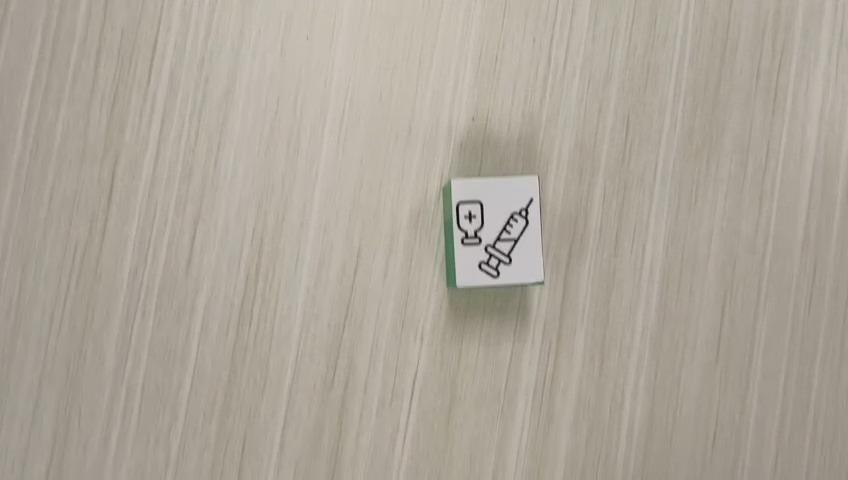antiseptic cream: (441, 173, 545, 289)
